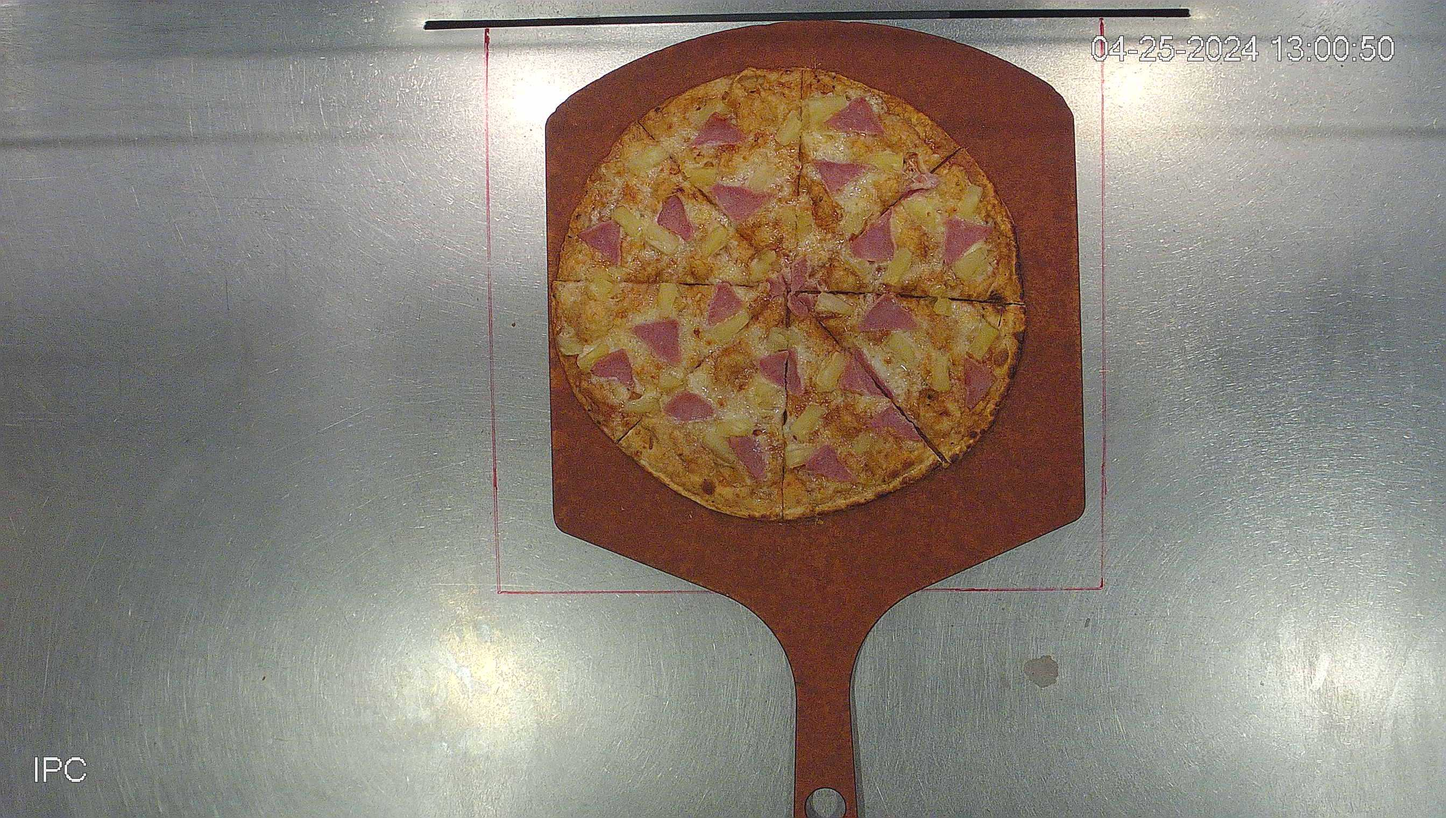manager_choice: (552, 70, 1025, 516)
